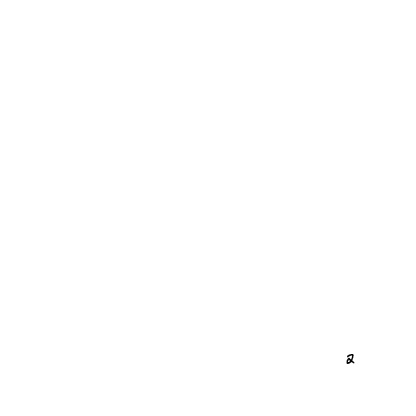0: (75, 297, 187, 409)
6: (227, 239, 339, 351)
9: (123, 373, 137, 387)
Pullover: (299, 76, 411, 188), (62, 254, 104, 296)
Sneaker: (172, 162, 214, 204)
T-shirt/top: (29, 300, 51, 322)
Trouser: (1, 336, 29, 364), (23, 110, 37, 124)
